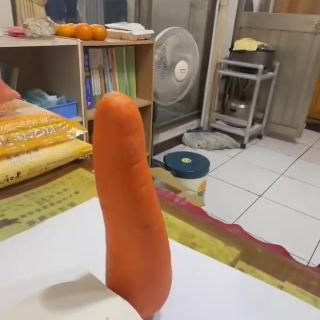carrot: (92, 90, 174, 318)
